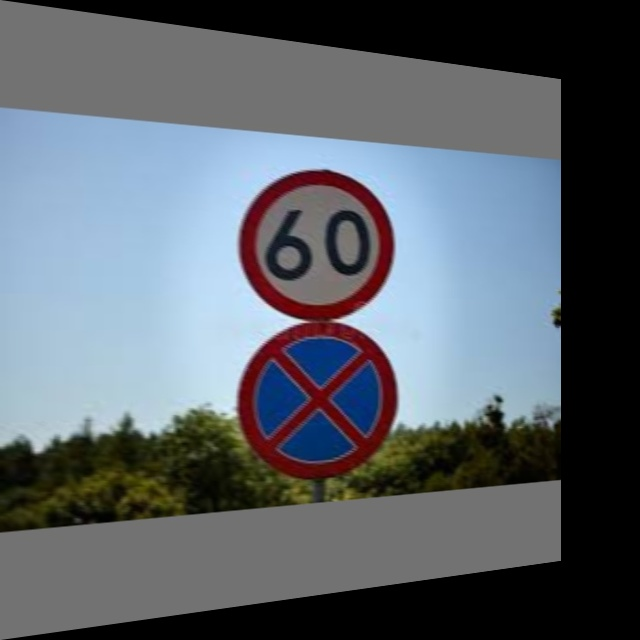Speed_Limit_60: (243, 163, 391, 320)
